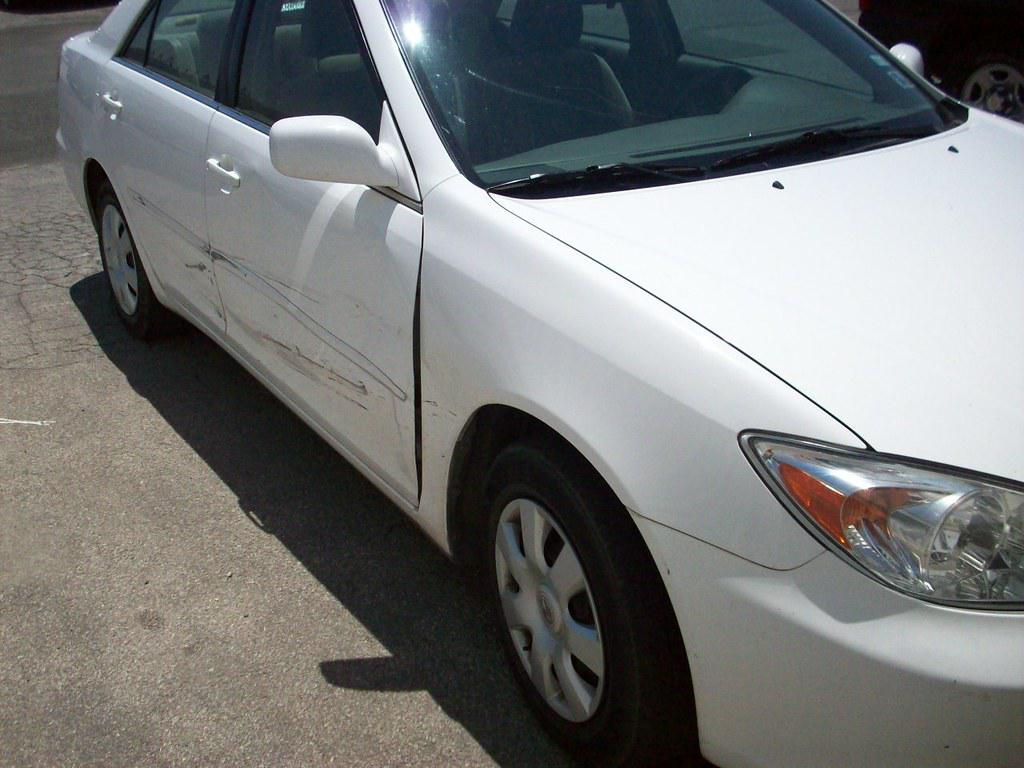doorouter-dent: (219, 136, 412, 456)
